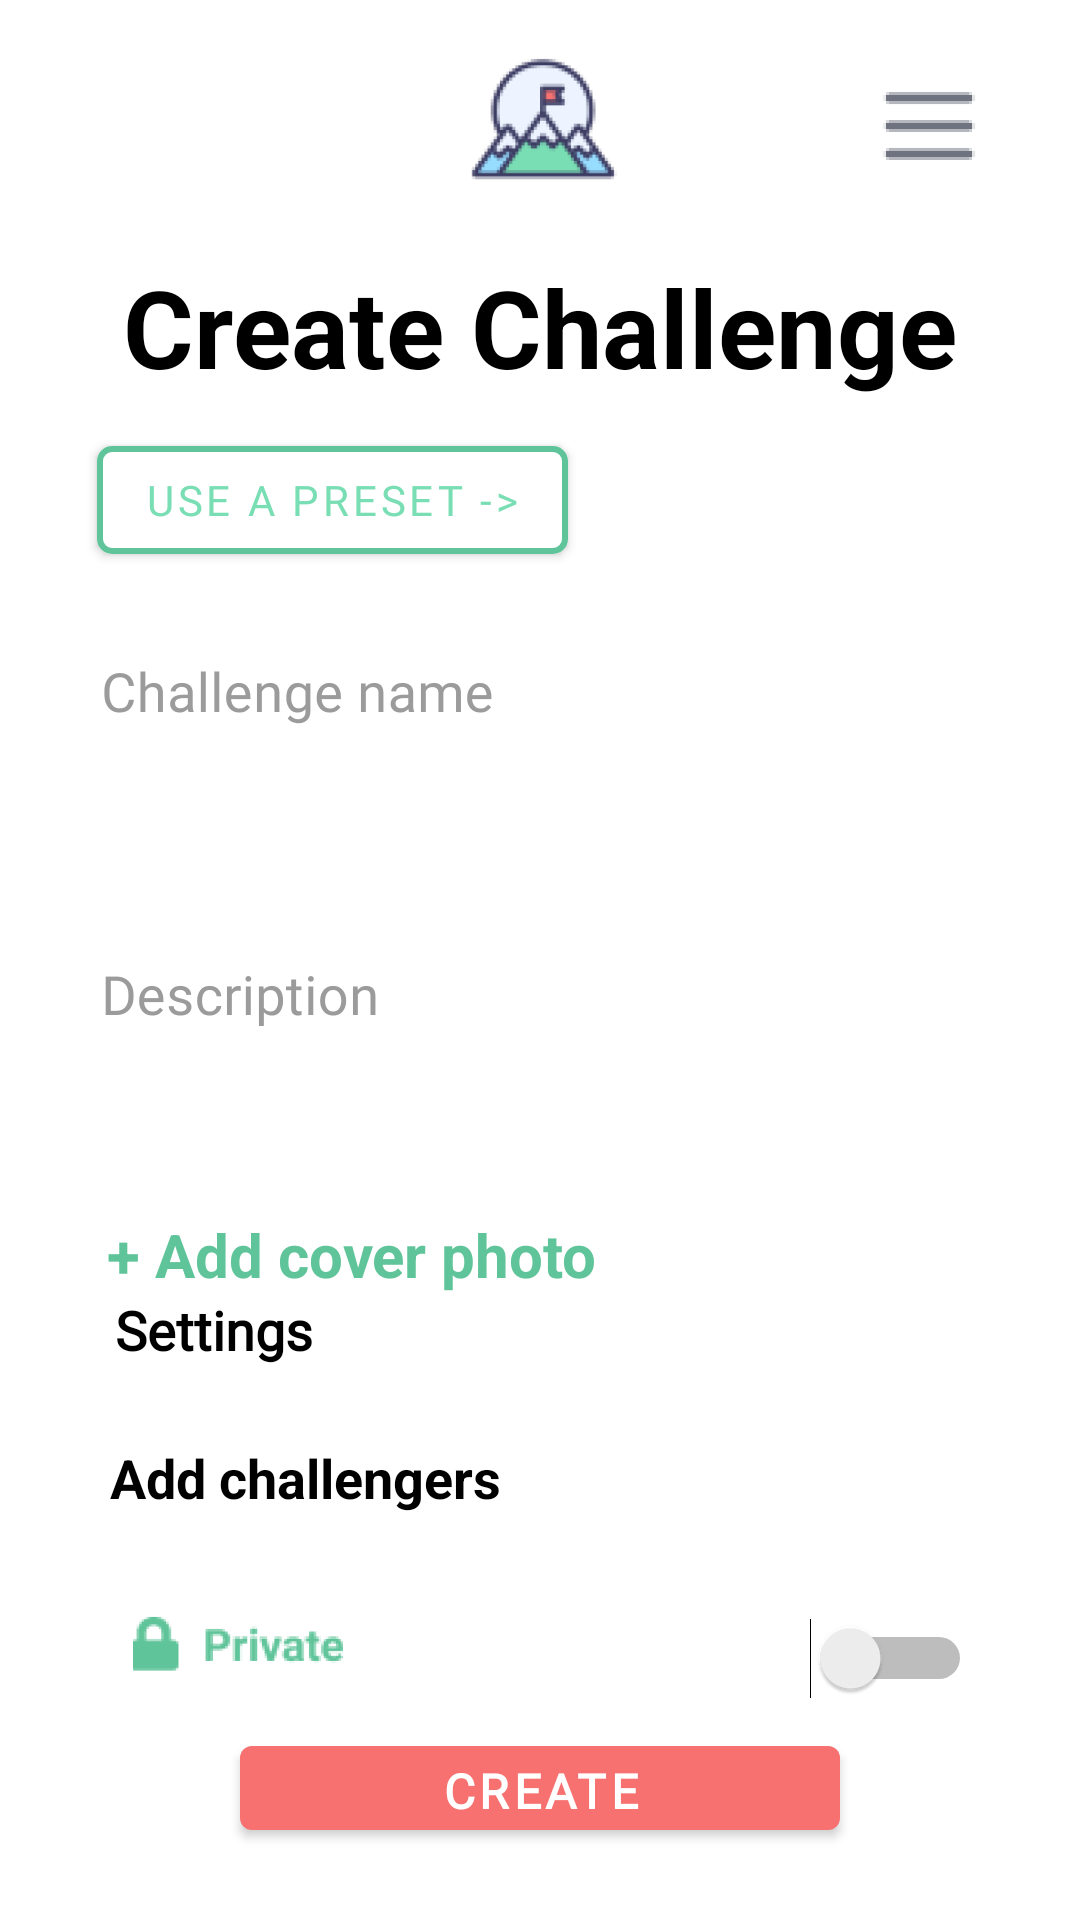

Screen size 1080×1920. Icon name, then its center in pixels as point (x, y):
hamburger menu: point (930, 126)
